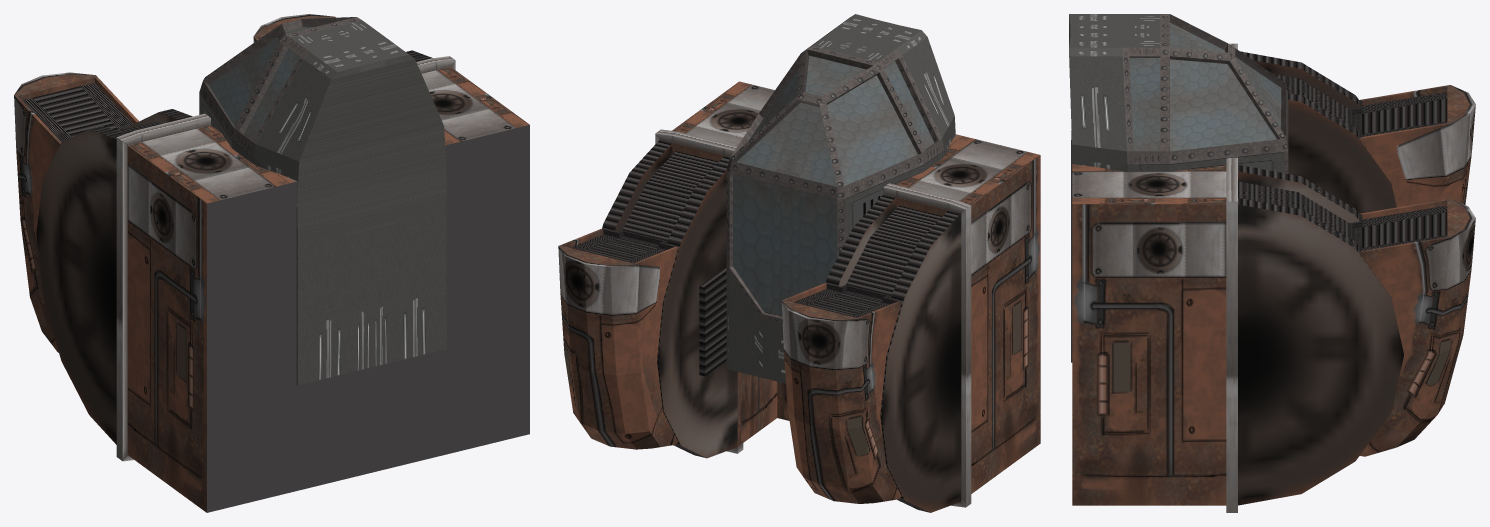
File: Station Turret.fbx
The picture shows the model from 3 angles, left to right: view 1: azimuth 30°, elevation 25°; view 2: azimuth 150°, elevation 25°; view 3: azimuth 270°, elevation 25°; orthographic projection. The views are drawn at different scales.
Parts seen in each view (by area): view 1: Gun Frame, Fuselage, Gunemplacement, Window; view 2: Gun Frame, Gunemplacement, Window, Fuselage; view 3: Gun Frame, Gunemplacement, Fuselage, Window.
Part boxes in pixels (box(x1,y1,x2,y2)): Gun Frame: box(36, 50, 529, 512); Fuselage: box(199, 17, 446, 385); Gunemplacement: box(14, 14, 335, 352); Window: box(208, 27, 314, 140); Gun Frame: box(602, 81, 1040, 512); Gunemplacement: box(558, 151, 942, 503); Window: box(733, 55, 934, 316); Fuselage: box(726, 14, 955, 383); Gun Frame: box(1072, 43, 1403, 512); Gunemplacement: box(1238, 74, 1475, 456); Fuselage: box(1069, 14, 1288, 362); Window: box(1129, 22, 1281, 151).
Bounding box in the file's own units: 4.93 × 5.91 × 5.36.
